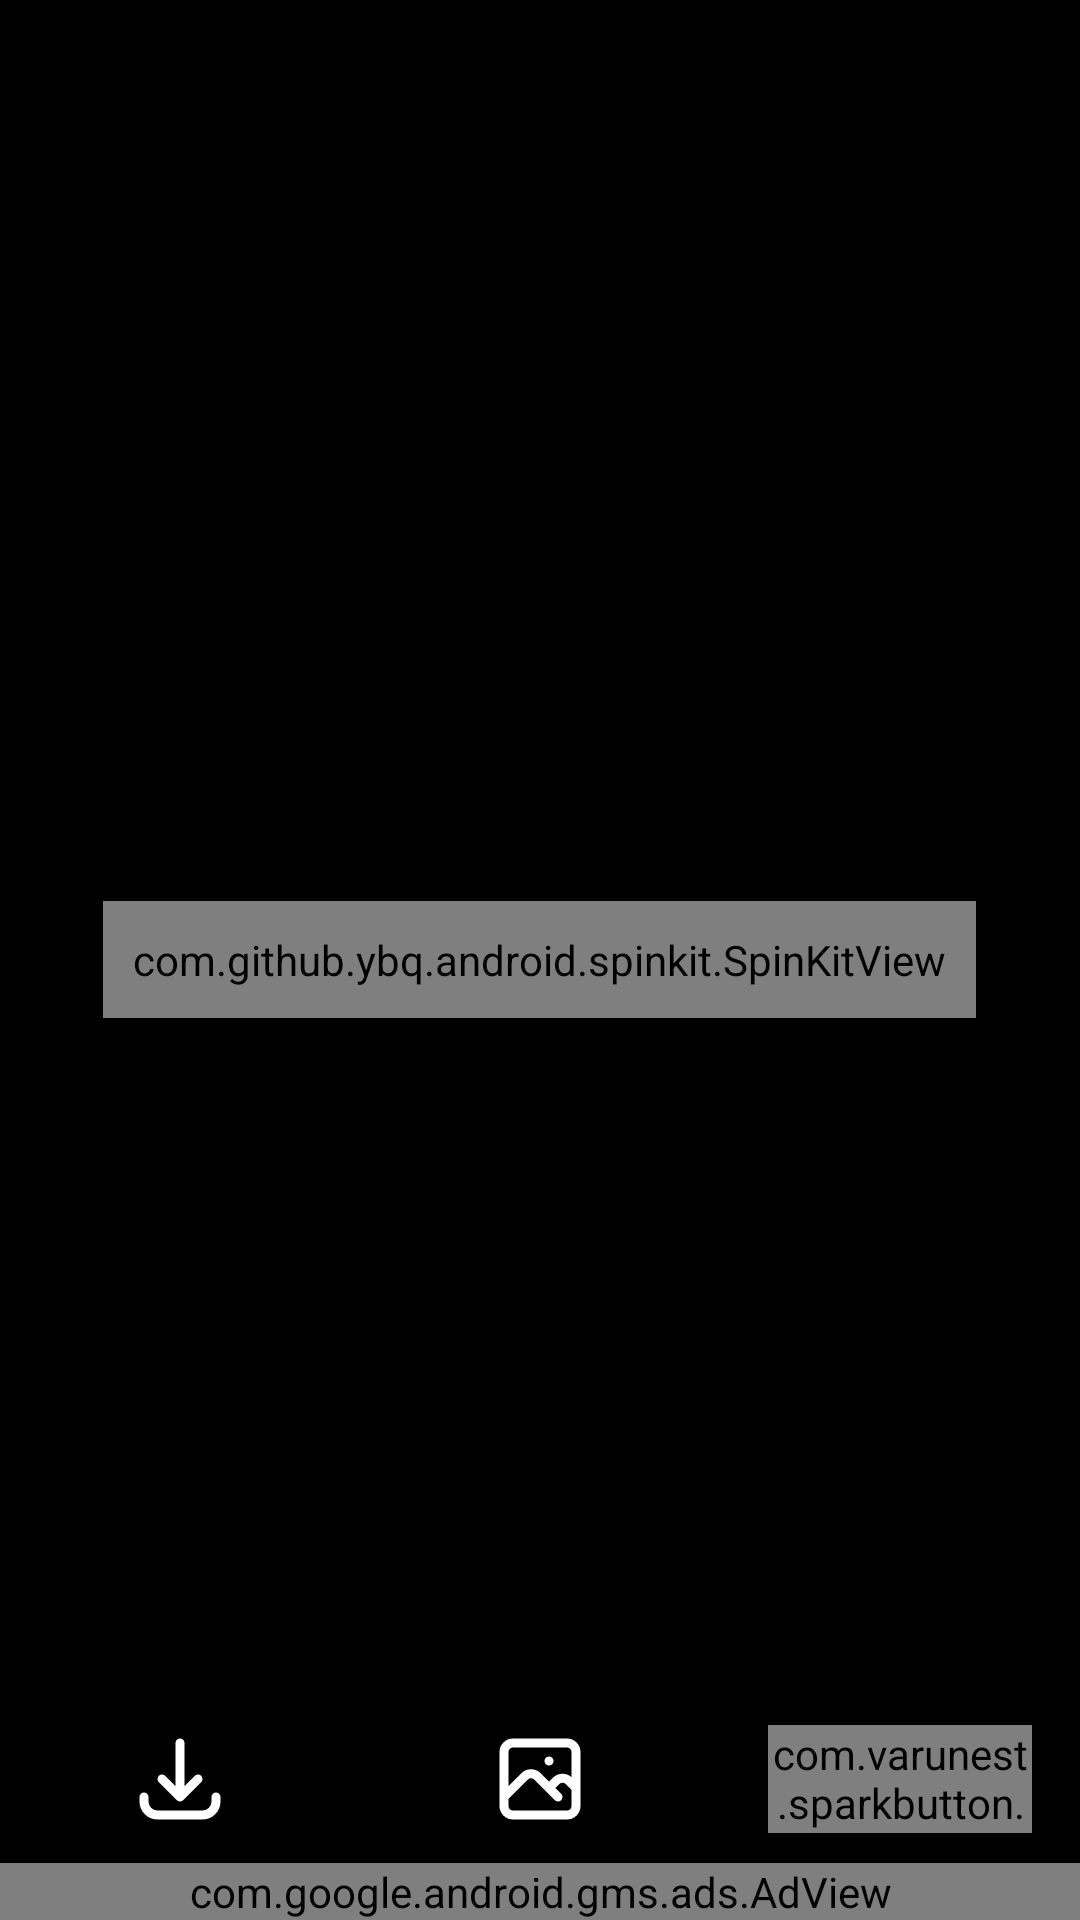

Where to tap for icons on this 1080*1920 app screen, as [x,y]:
download: [180,1779]
